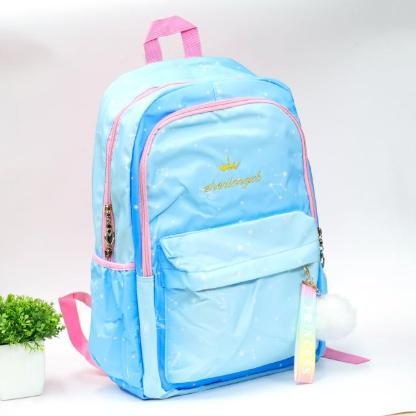bag: (82, 13, 347, 401)
